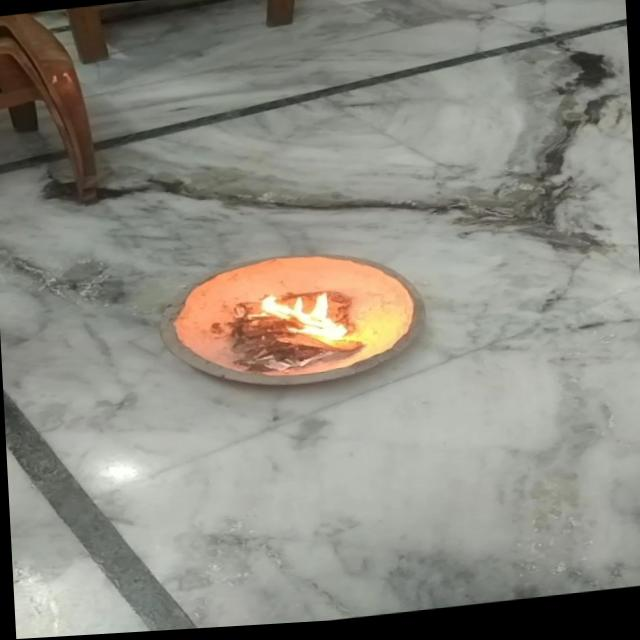fire: (252, 288, 346, 358)
